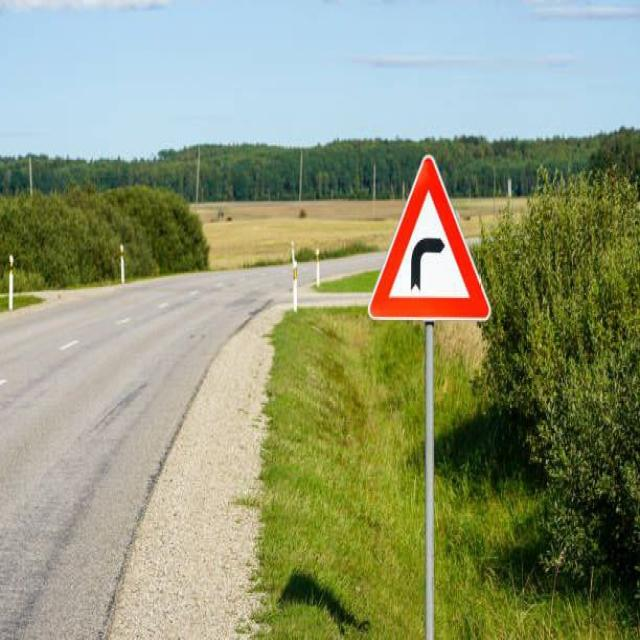Righthand_curve: (367, 150, 493, 322)
